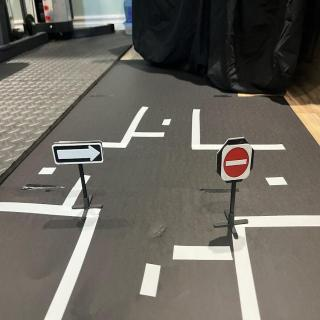sign_noentry: (223, 146, 253, 180)
sign_oneway_right: (52, 141, 106, 167)
